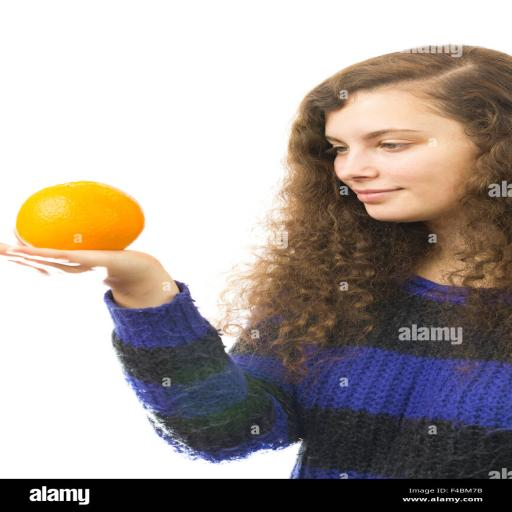orange: (16, 181, 144, 250)
